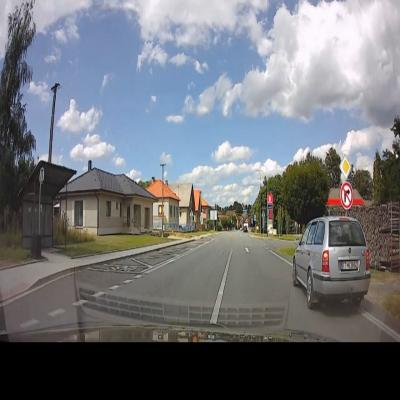clear-road: (125, 234, 295, 328)
